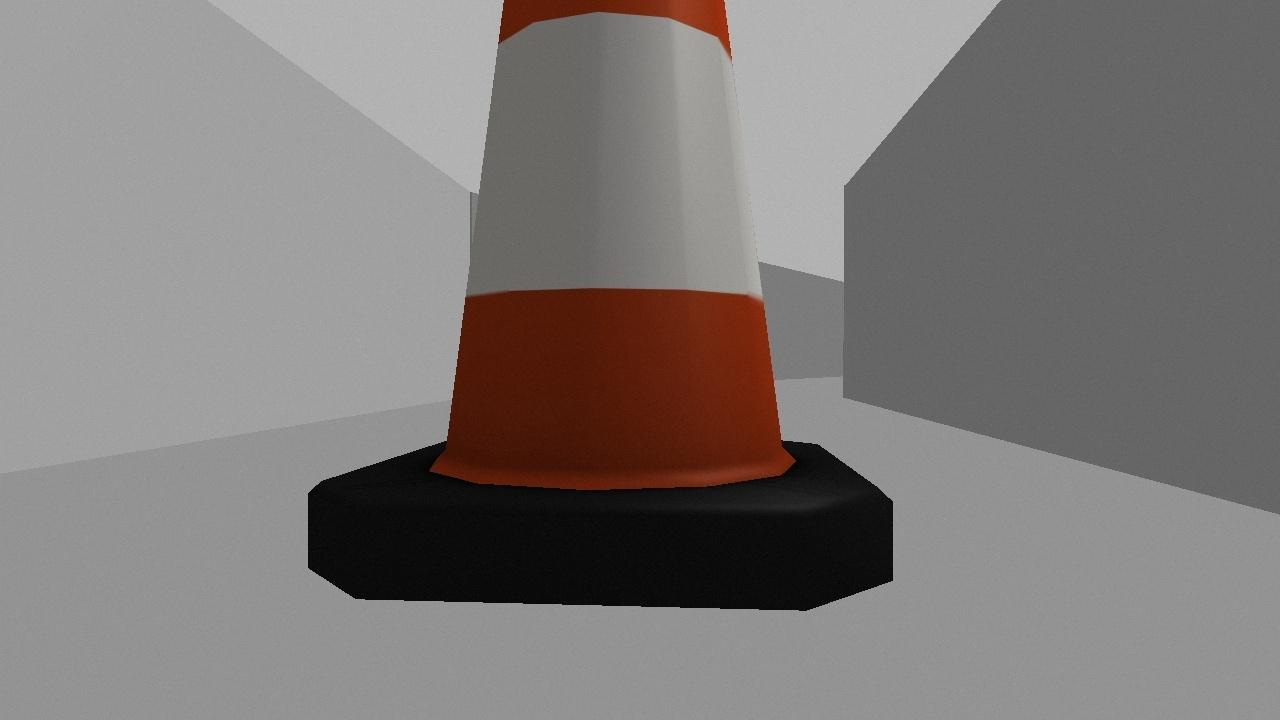cone_barrel: (259, 0, 936, 644)
